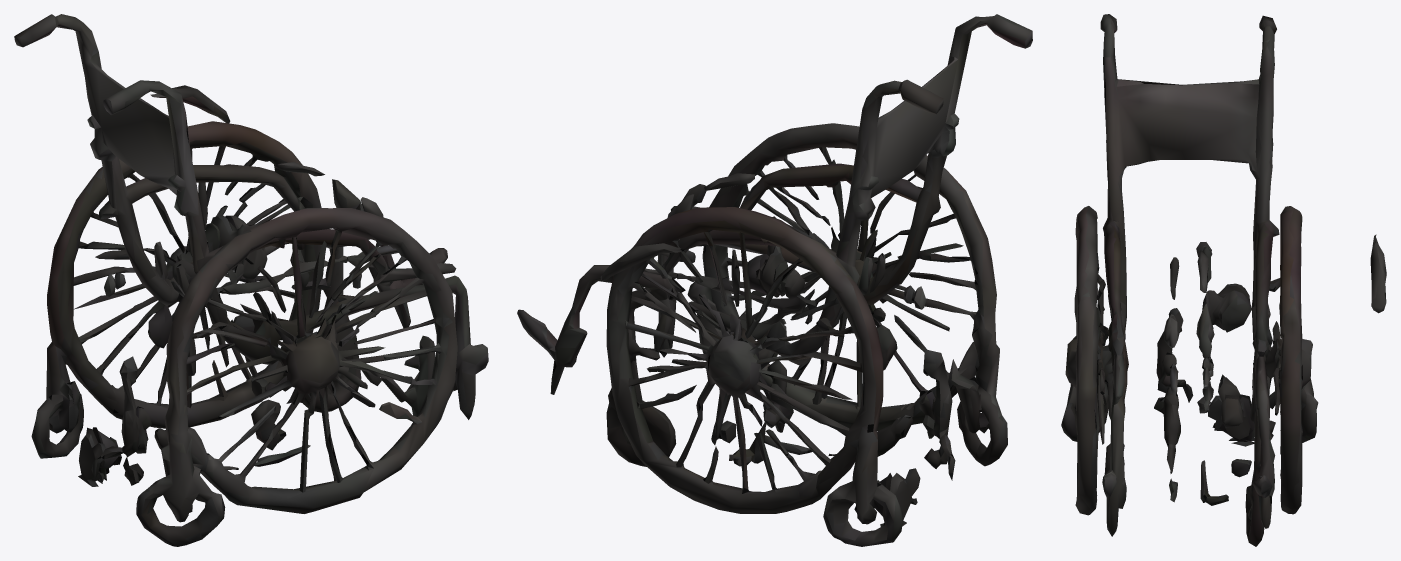
File: chipped-iron-wheelchair-v001.glb
3 views of the same model, side by side, from view 1: azimuth 30°, elevation 25°; view 2: azimuth 150°, elevation 25°; view 3: azimuth 270°, elevation 25° (orthographic). The views are drawn at different scales.
Parts seen in each view (by area): view 1: chipped-iron-wheelchair; view 2: chipped-iron-wheelchair; view 3: chipped-iron-wheelchair.
Part boxes in pixels (x1=…): chipped-iron-wheelchair: x1=14, y1=14, x2=488, y2=546; chipped-iron-wheelchair: x1=517, y1=14, x2=1032, y2=546; chipped-iron-wheelchair: x1=1061, y1=14, x2=1386, y2=546.
Size of the model in its own units: 0.9549 by 0.9882 by 0.7111.
1 material, 1 textured.
